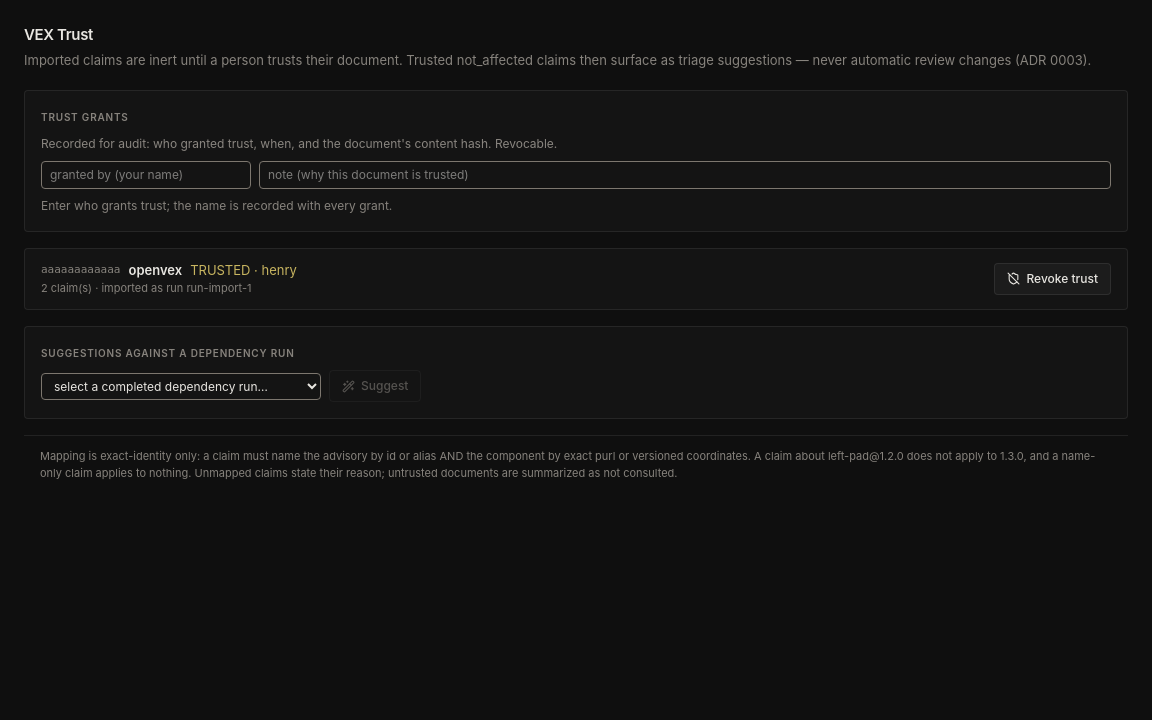
Scenario: revoking trust clears suggestions derived from that trust
Select "/repo · 1/1/1970, 12:00:00 AM" in the dropdown named "Dependency run" at (181, 386), box [41, 372, 321, 400]
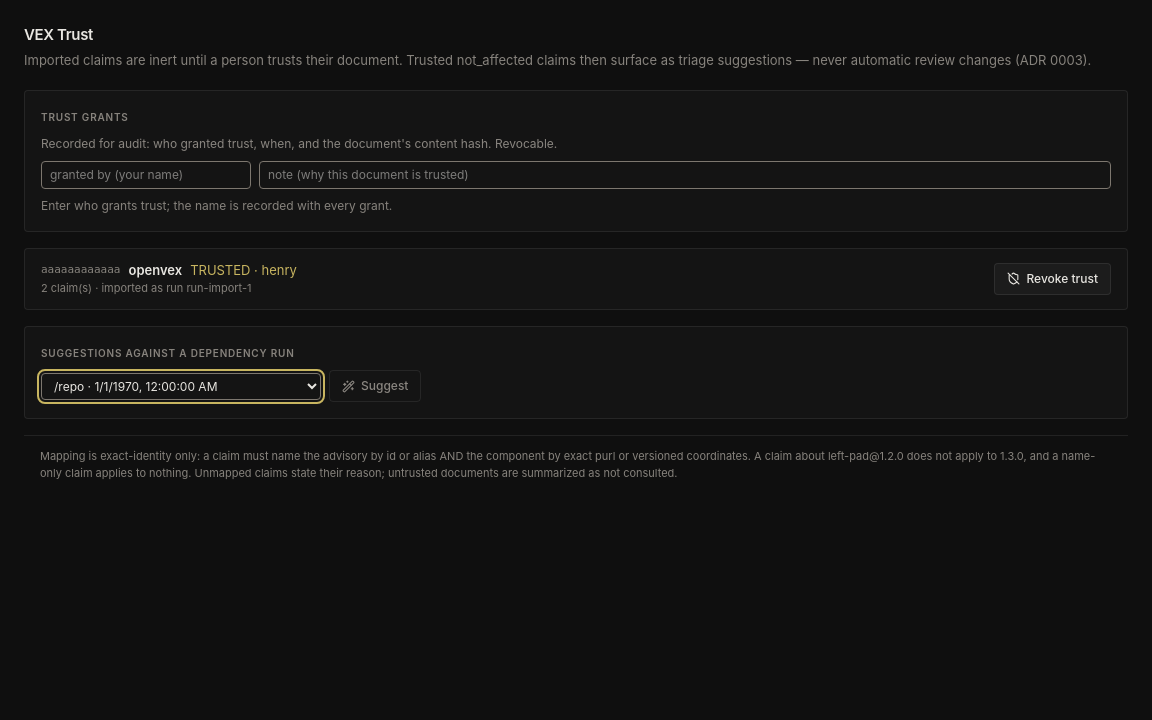
Click the button "Suggest" at (375, 386), box [329, 370, 421, 402]
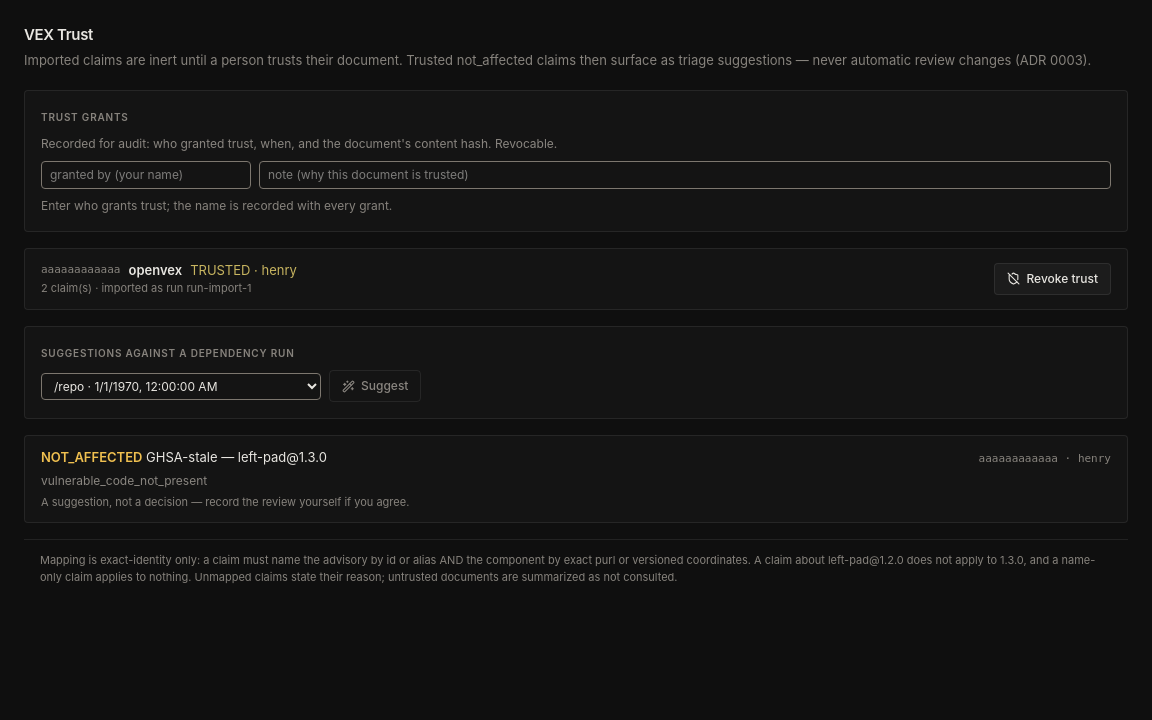
Expected: the text "not_affected GHSA-stale — left-pad@1.3.0" is shown, [41, 448, 327, 468]
Click the button "Revoke trust" at (1053, 278), box [994, 262, 1111, 294]
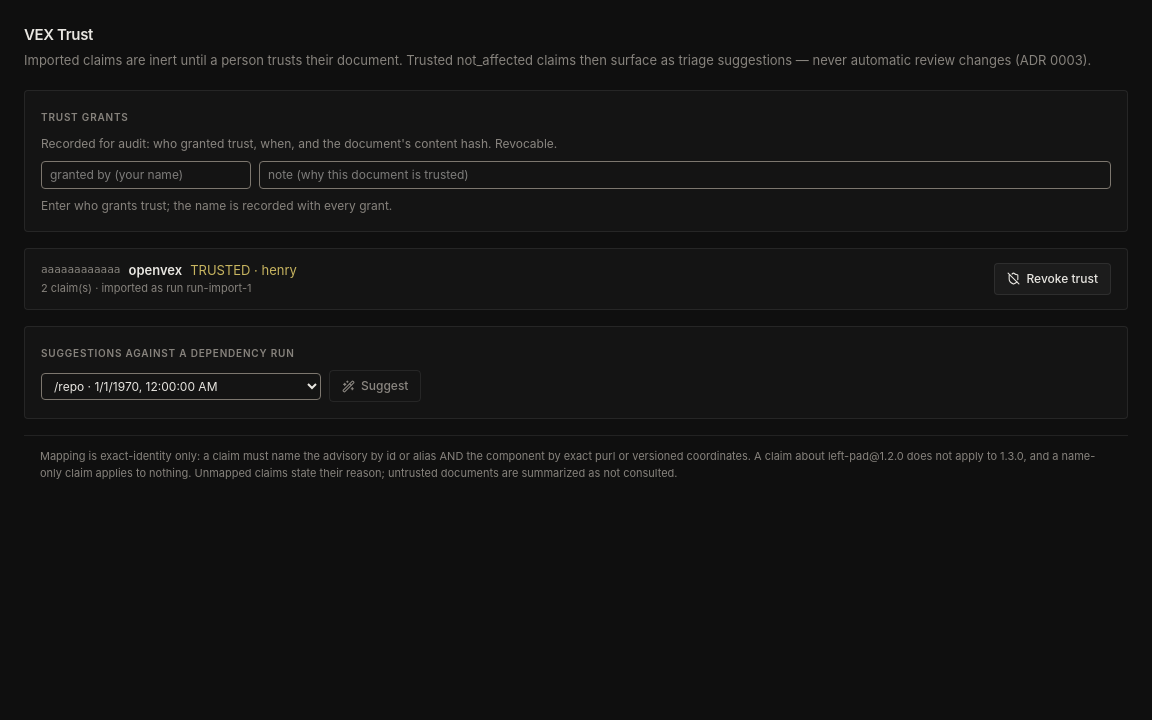
Expected: the text "GHSA-stale" is gone
